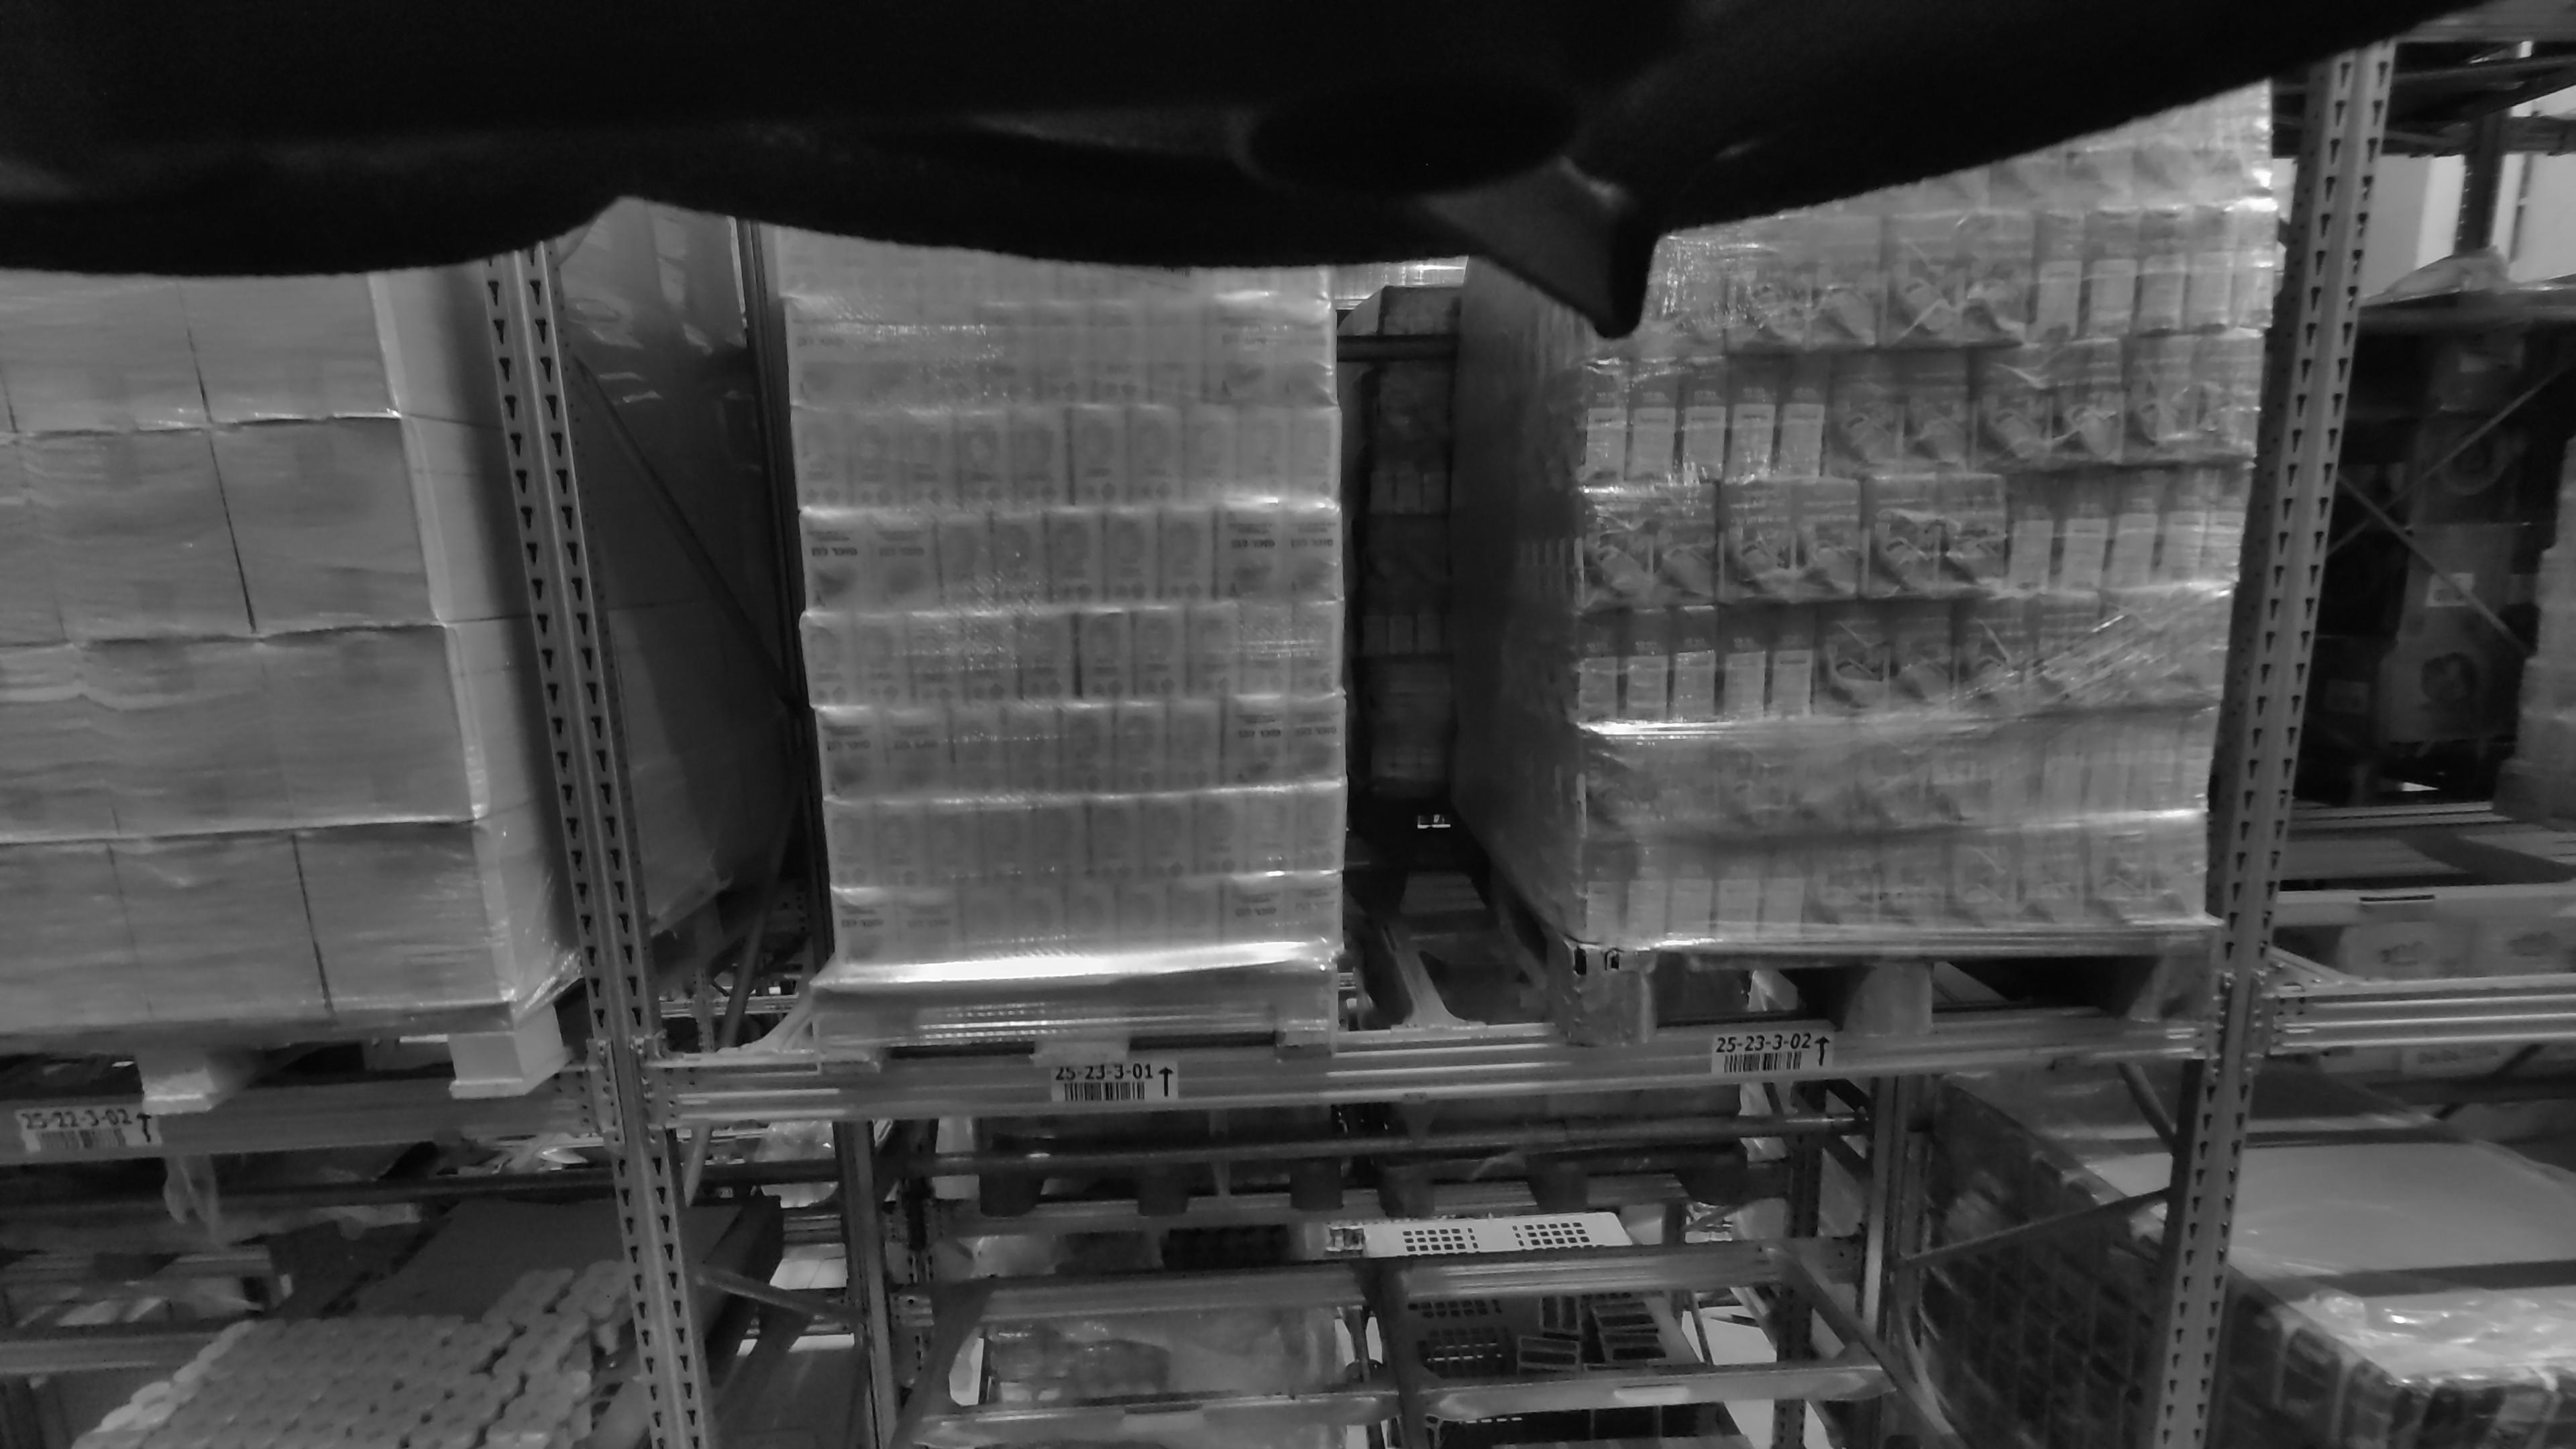empty-shelf: (2374, 0, 2576, 993)
